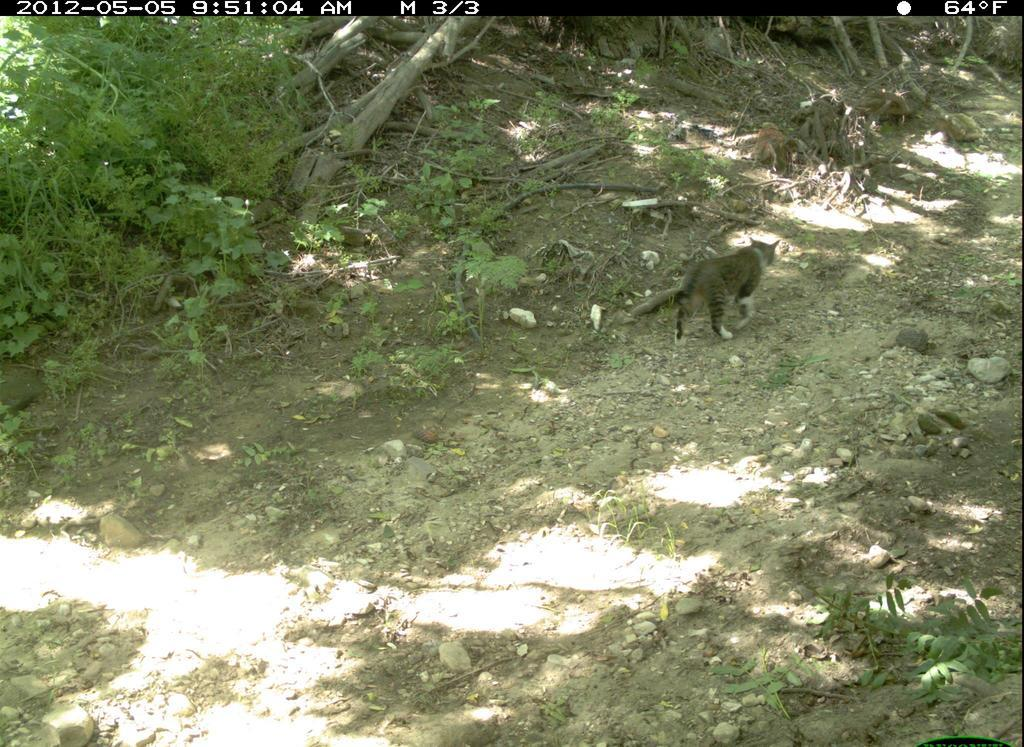cat: (619, 231, 788, 365)
